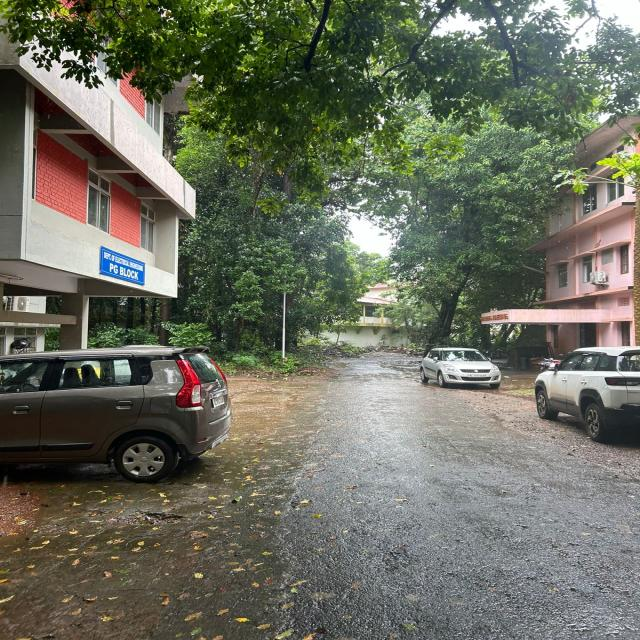car ahead at: (6, 341, 232, 484)
